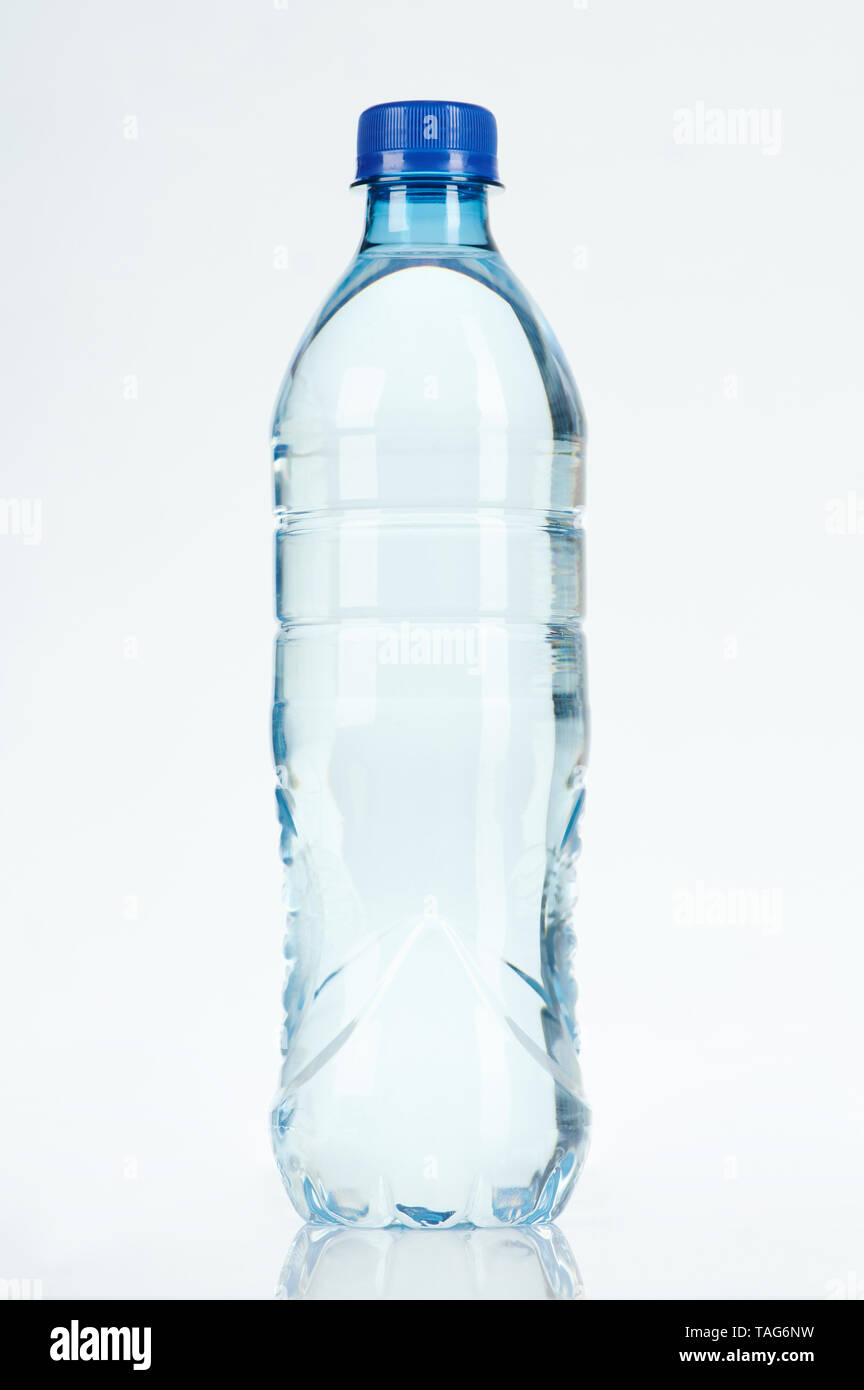bottle: (238, 67, 624, 1264)
